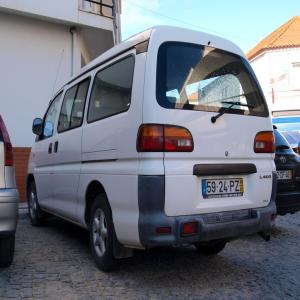Vehicle-registration-plate: (199, 162, 241, 224), (277, 171, 295, 183)
